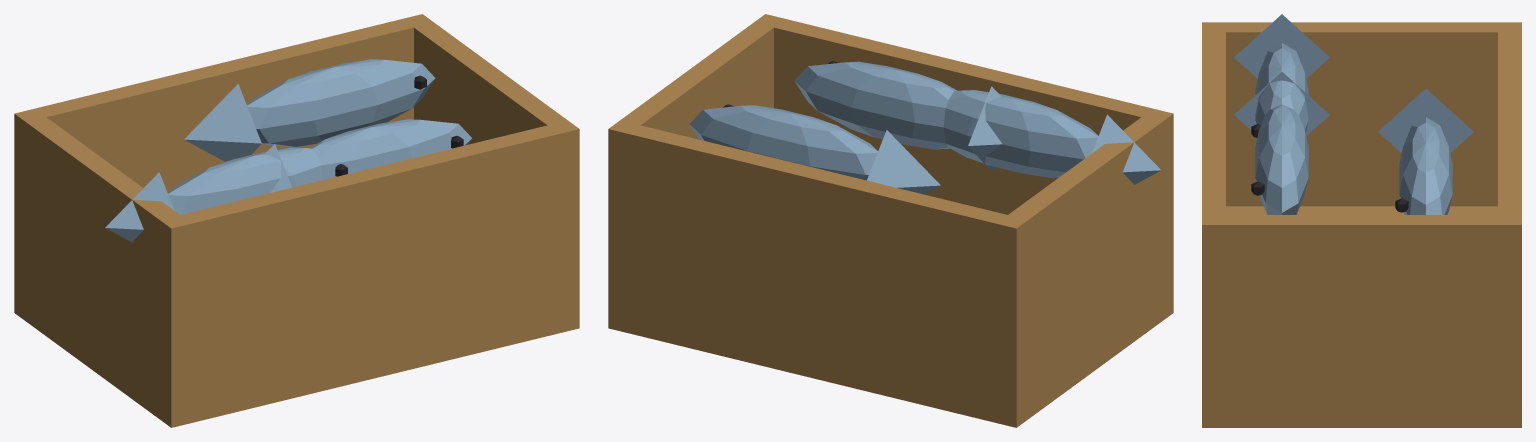
The model's file is kitchen_crate_fish.glb.
3 views of the same model, side by side, from view 1: azimuth 30°, elevation 25°; view 2: azimuth 150°, elevation 25°; view 3: azimuth 270°, elevation 25° (orthographic).
Visible parts, largest first — view 1: crate_crate_wood, fish_food_fish; view 2: crate_crate_wood, fish_food_fish; view 3: crate_crate_wood, fish_food_fish, eye_kitchen_black.
Boxes of the visible parts, bbox=[...] form: crate_crate_wood: bbox=[14, 14, 579, 427]; fish_food_fish: bbox=[105, 59, 472, 242]; crate_crate_wood: bbox=[608, 14, 1173, 427]; fish_food_fish: bbox=[689, 61, 1161, 194]; crate_crate_wood: bbox=[1202, 22, 1521, 427]; fish_food_fish: bbox=[1234, 14, 1473, 214]; eye_kitchen_black: bbox=[1251, 124, 1408, 212].
Size of the model in its own units: 0.64 by 0.31 by 0.4.
